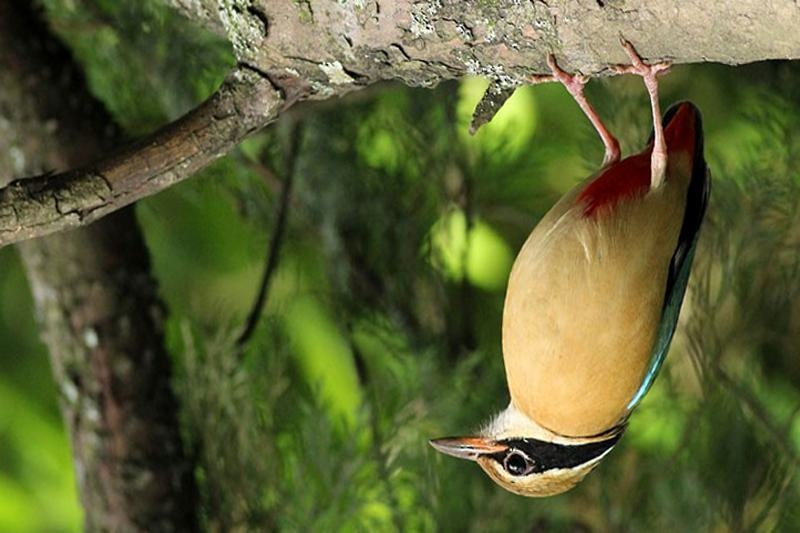pitta: (432, 71, 711, 504)
